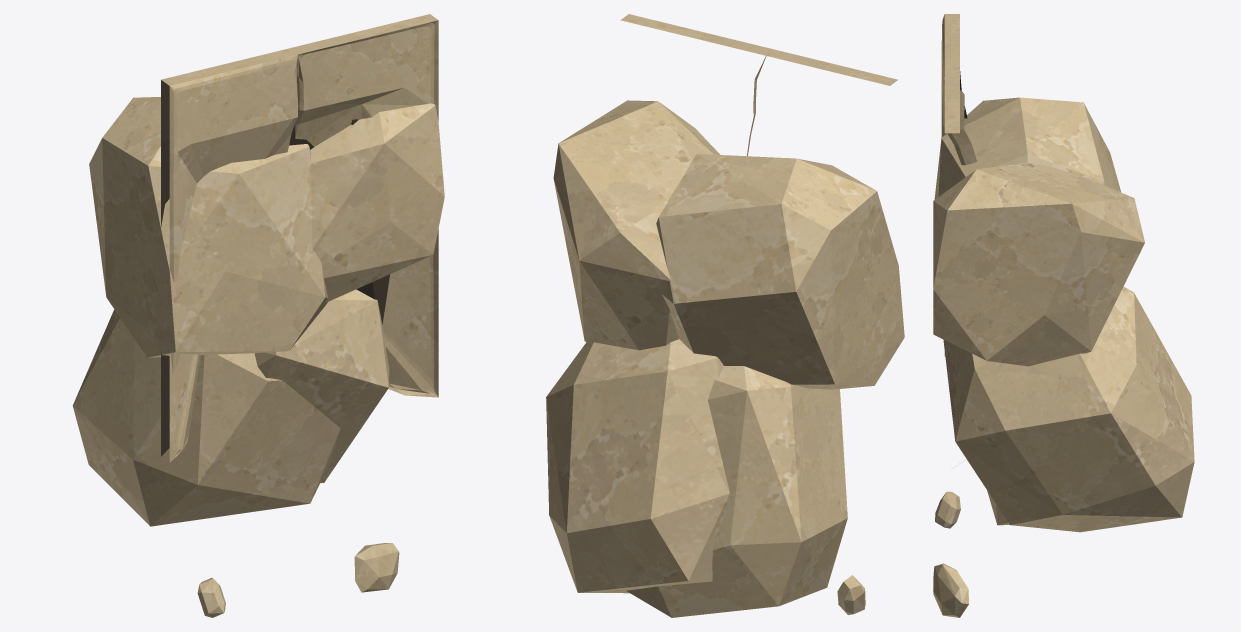
Rendered from ground_bottom_square_edge_02.glb.
The picture shows the model from 3 angles, left to right: view 1: azimuth 30°, elevation 25°; view 2: azimuth 150°, elevation 25°; view 3: azimuth 270°, elevation 25°; orthographic projection. The views are drawn at different scales.
Visible parts, largest first — view 1: GroundBottomSquareEdge02_Body; view 2: GroundBottomSquareEdge02_Body; view 3: GroundBottomSquareEdge02_Body.
Part boxes in pixels (<box>): GroundBottomSquareEdge02_Body: <box>72,14,444,617</box>; GroundBottomSquareEdge02_Body: <box>546,14,904,617</box>; GroundBottomSquareEdge02_Body: <box>933,14,1194,617</box>.
Bounding box in the file's own units: 1 × 1.98 × 1.04.
Materials: 5 (4 with a texture image).
